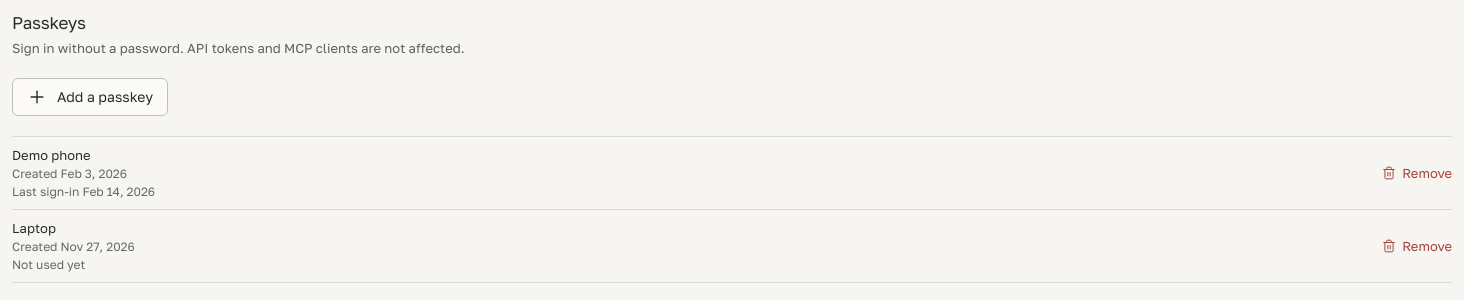
Test: PasskeysSection › names an unnamed passkey and stays quiet when the sheet is closed
Later steps or results of the test are not shown.
What coordinates should you click on to do the following:
click the button "Add a passkey"
I would click on:
 (90, 97)
Its box is [12, 78, 168, 116].
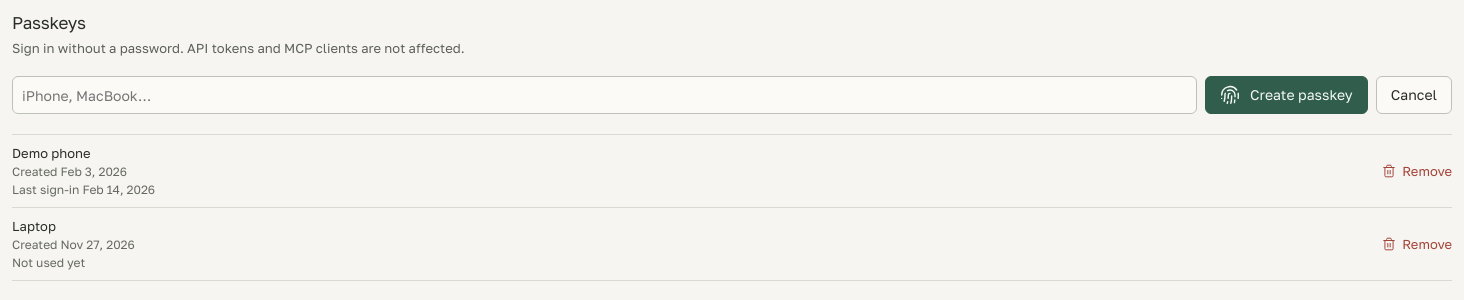
Check: the button "Create passkey" is enabled
What coordinates should you click on to do the following:
click the button "Create passkey"
I would click on:
 (1286, 95)
Its box is [1205, 76, 1368, 114].
Check: the button "Create passkey" is enabled, box [1205, 76, 1368, 114]
